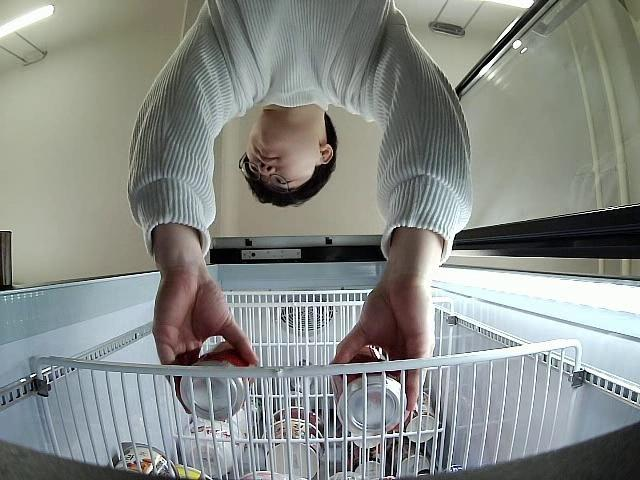11_cocaColaZero: (328, 348, 409, 436), (177, 340, 256, 421)
